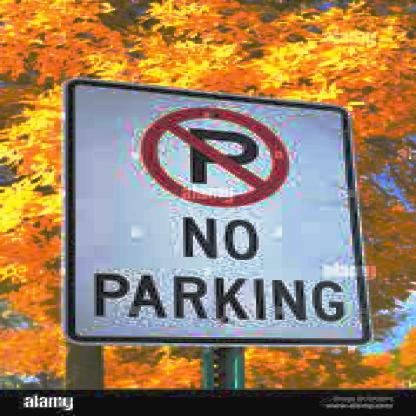No parking: (124, 100, 310, 211)
